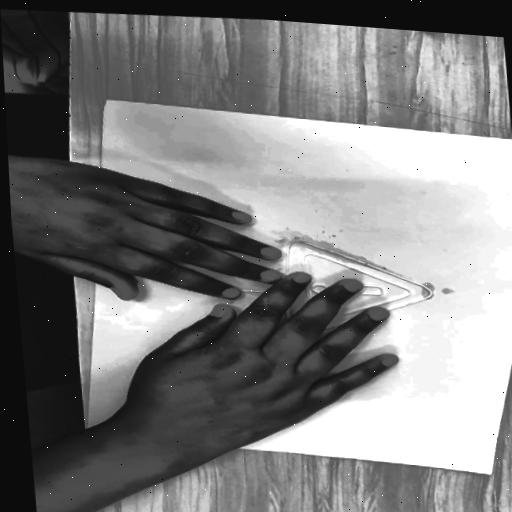bottom_left: (76, 423, 95, 433)
bottom_right: (94, 94, 115, 104)
signboard: (172, 219, 447, 360)
top_left: (477, 466, 496, 479)
